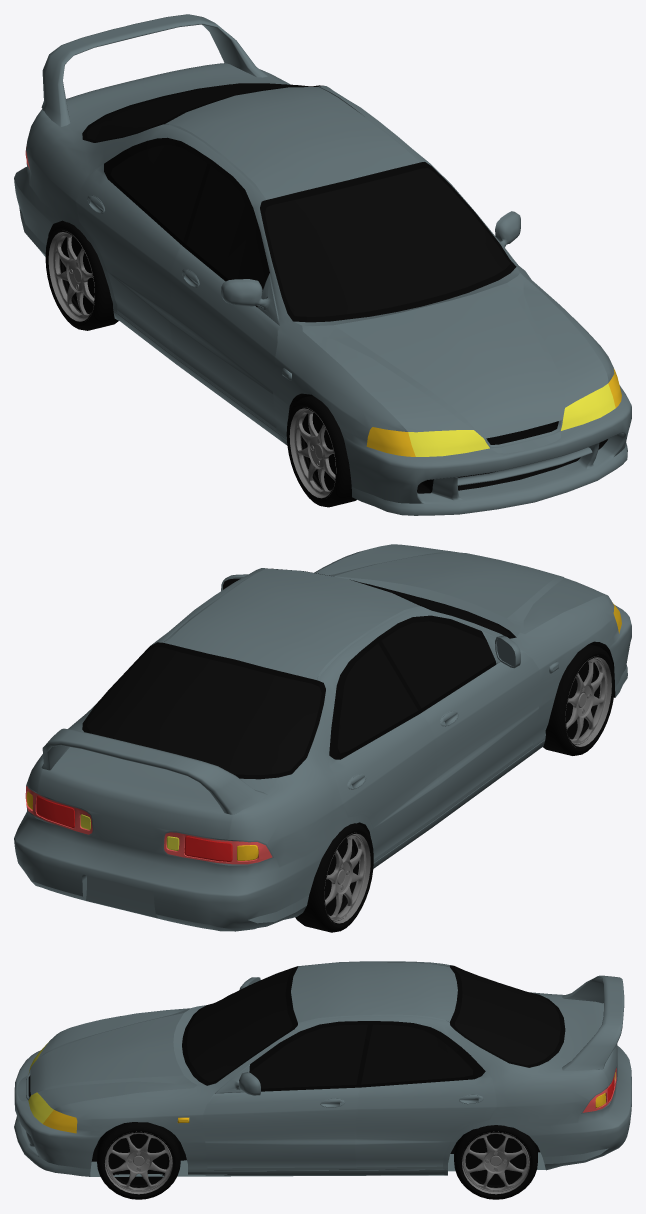
File: integra.fbx
The picture shows the model from 3 angles, top to bottom: view 1: azimuth 30°, elevation 25°; view 2: azimuth 150°, elevation 25°; view 3: azimuth 270°, elevation 25°; orthographic projection. The views are drawn at different scales.
Visible parts, largest first — view 1: integra, on_teker, arka_teker; view 2: integra, on_teker, arka_teker; view 3: integra, on_teker, arka_teker.
Part boxes in pixels (bbox=[...]): integra: bbox=[14, 14, 631, 515]; on_teker: bbox=[286, 395, 356, 507]; arka_teker: bbox=[45, 221, 118, 330]; integra: bbox=[14, 544, 631, 931]; on_teker: bbox=[543, 644, 614, 755]; arka_teker: bbox=[295, 823, 373, 932]; integra: bbox=[14, 961, 631, 1176]; on_teker: bbox=[97, 1122, 180, 1199]; arka_teker: bbox=[454, 1125, 537, 1199].
Size of the model in its own units: 1.25 by 0.9116 by 3.04.
